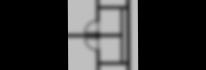door: (125, 0, 132, 64), (119, 8, 124, 63), (83, 37, 100, 52), (95, 60, 128, 67), (84, 20, 100, 34), (95, 50, 100, 70)
